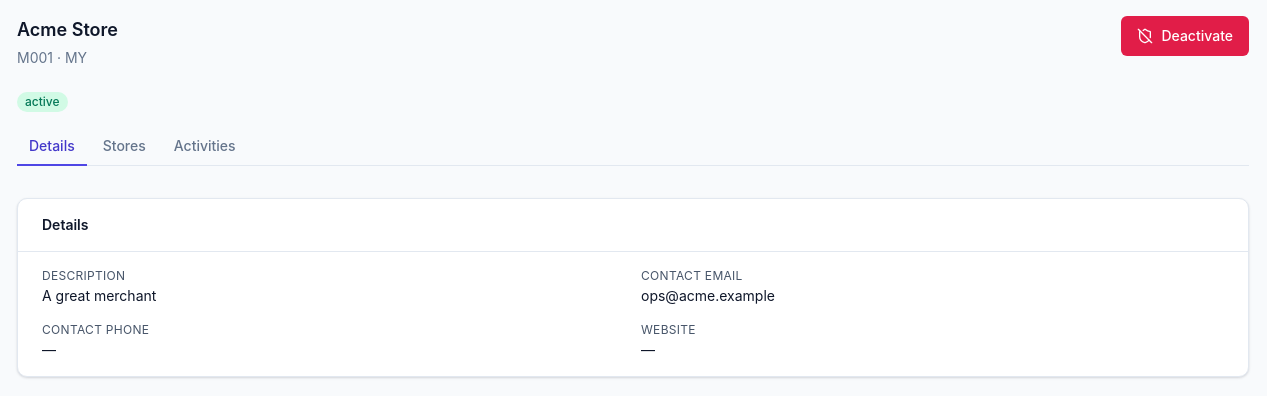
Test: MerchantDetailPage › shows an inactive store badge tone
Click the tab "Stores".
click(124, 147)  # box [91,128,158,166]
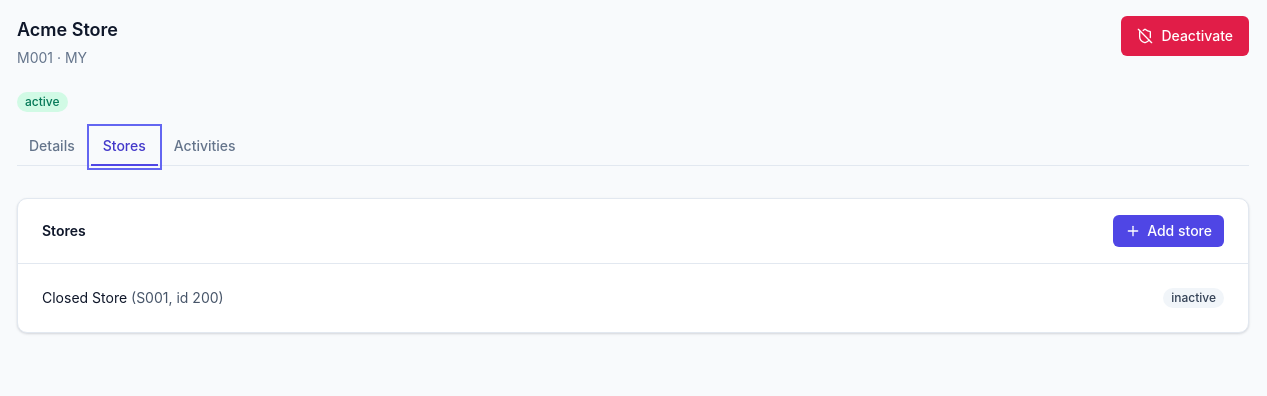
Check: the text "Closed Store (S001, id 200)" is shown, box [42,288,224,308]
